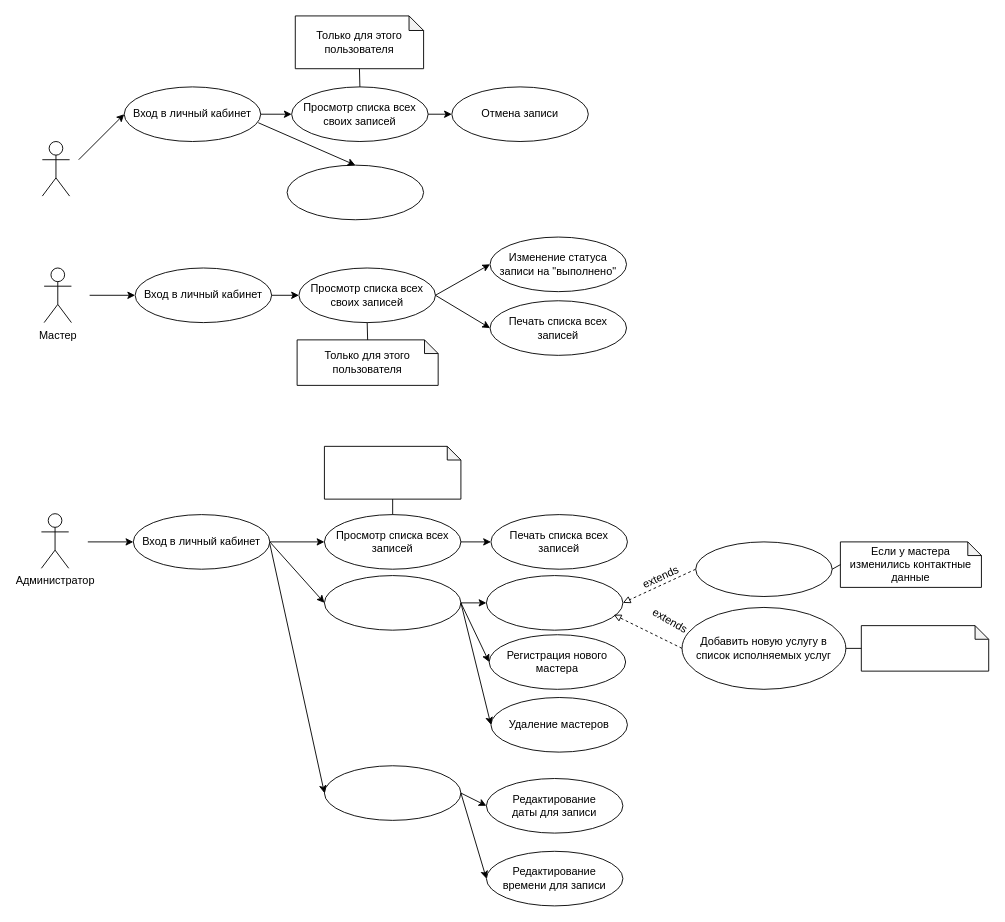
Image size: 1005x922. Some labels were removed from this diagram. Each missing label, with the centre of its shape:
Если мастер может осуществлять эту услугу: the point at 924,648
Записи отсортированы по мастерам: the point at 392,472
Изменить контактные данные: the point at 763,569
Клиент: the point at 55,168
Просмотр списка дней для записи: the point at 392,792
Просмотр списка мастеров: the point at 392,602
Редактирование информации о мастере: the point at 554,602
Создание записи: the point at 355,192
